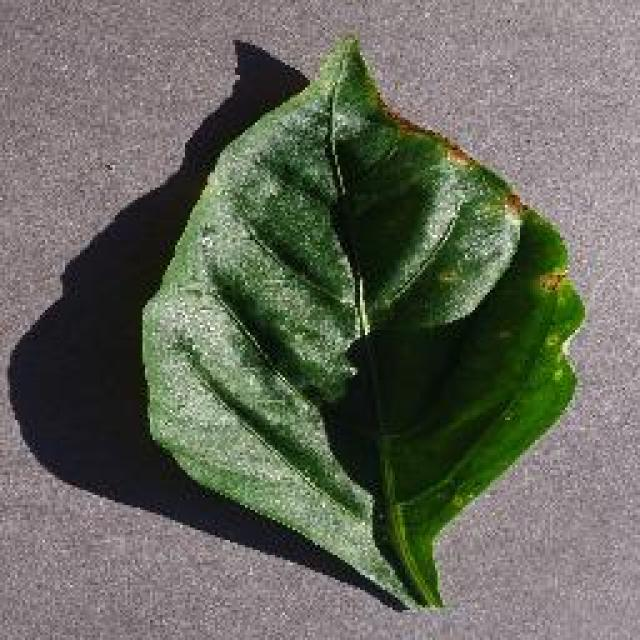Chilli_Bacterial_Spot: (135, 32, 587, 612), (493, 182, 535, 230), (440, 140, 475, 172), (535, 267, 570, 295), (500, 188, 528, 222), (433, 262, 465, 290)
